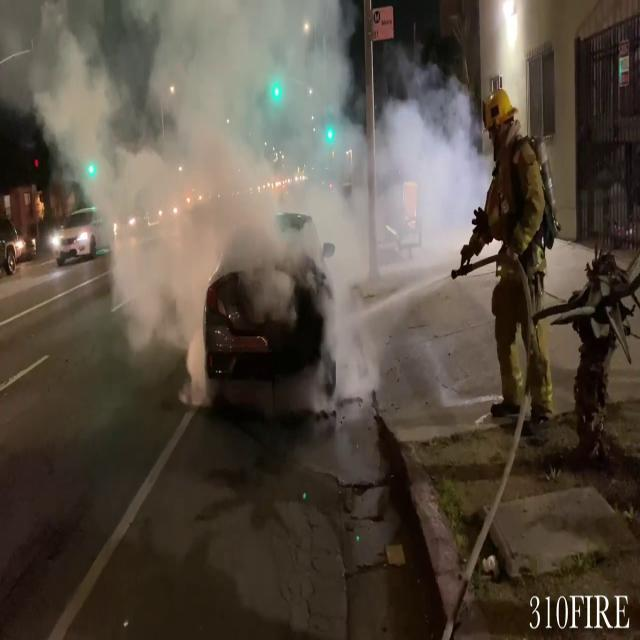Smoke: (10, 0, 266, 328), (275, 1, 481, 408)
